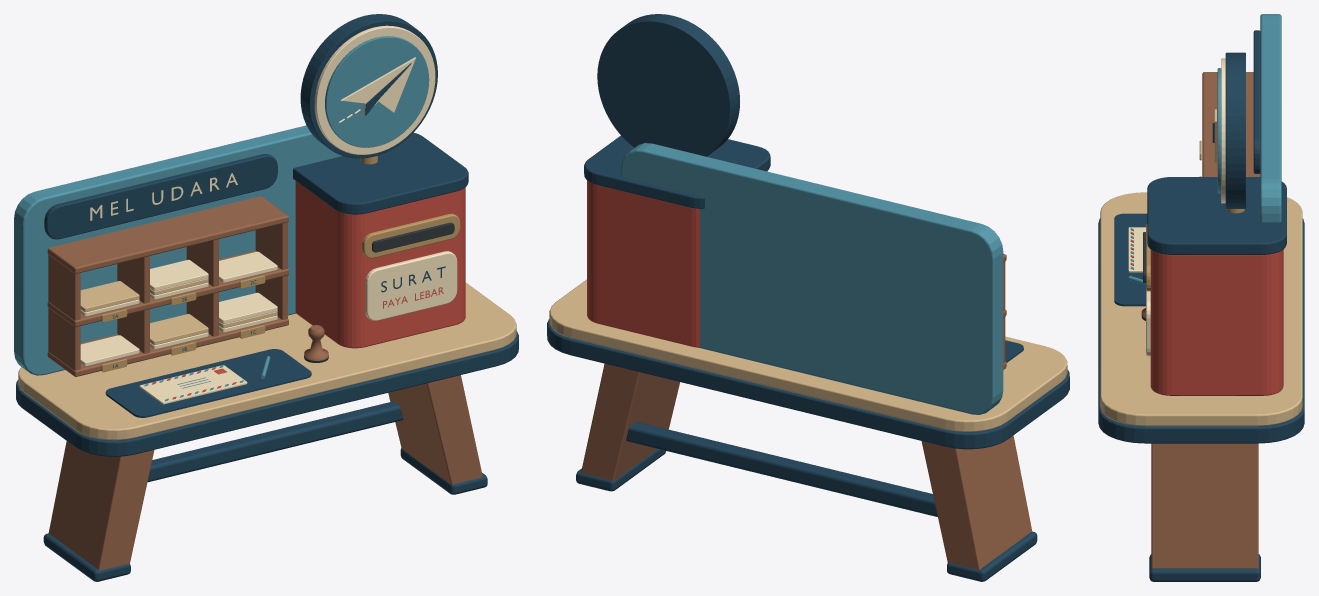
3 renders of one model, left to right at view 1: azimuth 30°, elevation 25°; view 2: azimuth 150°, elevation 25°; view 3: azimuth 270°, elevation 25°, orthographic. The views are drawn at different scales.
Parts seen in each view (by area): view 1: Mel Udara | Aerogram bureau - Casework, Mel Udara | Aerogram bureau - Cabinetry, Mel Udara | Aerogram bureau - Letter box, Mel Udara | Aerogram bureau - Trestle, Mel Udara | Aerogram bureau - Stationery, Mel Udara | Aerogram bureau - Crest, Mel Udara | Aerogram bureau - Graphics; view 2: Mel Udara | Aerogram bureau - Casework, Mel Udara | Aerogram bureau - Trestle, Mel Udara | Aerogram bureau - Cabinetry, Mel Udara | Aerogram bureau - Letter box, Mel Udara | Aerogram bureau - Crest; view 3: Mel Udara | Aerogram bureau - Letter box, Mel Udara | Aerogram bureau - Cabinetry, Mel Udara | Aerogram bureau - Trestle, Mel Udara | Aerogram bureau - Casework, Mel Udara | Aerogram bureau - Crest, Mel Udara | Aerogram bureau - Stationery, Mel Udara | Aerogram bureau - Graphics.
Boxes of the visible parts, x1,y1,x2,y2 form: Mel Udara | Aerogram bureau - Casework: (14,125,342,376); Mel Udara | Aerogram bureau - Cabinetry: (16,282,518,456); Mel Udara | Aerogram bureau - Letter box: (293,132,468,348); Mel Udara | Aerogram bureau - Trestle: (43,375,487,581); Mel Udara | Aerogram bureau - Stationery: (80,251,311,417); Mel Udara | Aerogram bureau - Crest: (300,14,437,158); Mel Udara | Aerogram bureau - Graphics: (44,109,457,372); Mel Udara | Aerogram bureau - Casework: (621,143,1006,414); Mel Udara | Aerogram bureau - Trestle: (576,363,1037,581); Mel Udara | Aerogram bureau - Cabinetry: (547,279,1069,449); Mel Udara | Aerogram bureau - Letter box: (584,135,770,347); Mel Udara | Aerogram bureau - Crest: (597,14,739,156); Mel Udara | Aerogram bureau - Letter box: (1143,177,1286,395); Mel Udara | Aerogram bureau - Cabinetry: (1098,192,1304,443); Mel Udara | Aerogram bureau - Trestle: (1149,443,1260,581); Mel Udara | Aerogram bureau - Casework: (1202,14,1281,222); Mel Udara | Aerogram bureau - Crest: (1212,52,1245,208); Mel Udara | Aerogram bureau - Stationery: (1114,213,1147,306); Mel Udara | Aerogram bureau - Graphics: (1146,30,1260,356).
Bounding box in the file's own units: 2.63 × 2.63 × 1.02.
